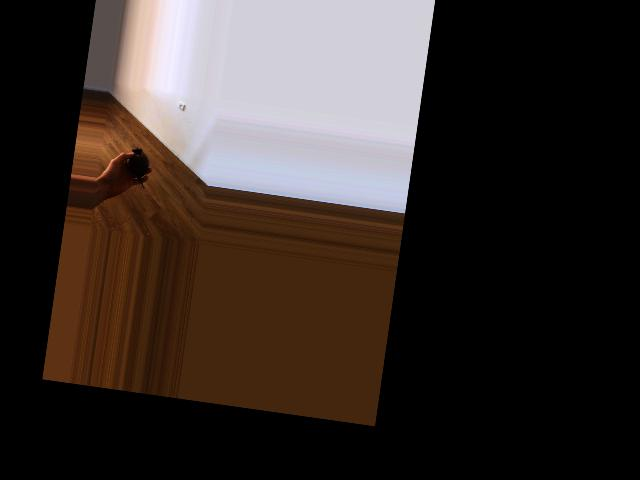beet: (123, 147, 151, 188)
